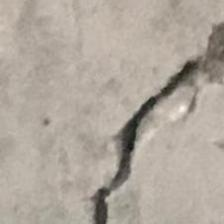Crack: (87, 13, 224, 223)
